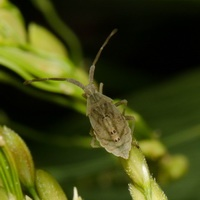insect: (24, 29, 131, 158)
